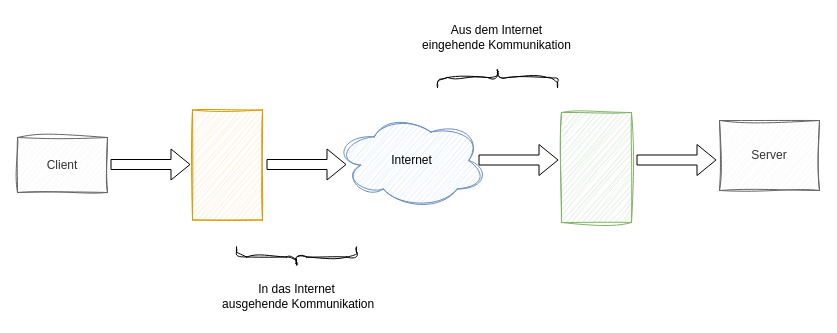
This 837x333 diagram has some shape labels left out. Each missing label, with the box of its shape:
Forward- Proxy: (192, 109, 262, 220)
Reverse- Proxy: (560, 112, 632, 222)
